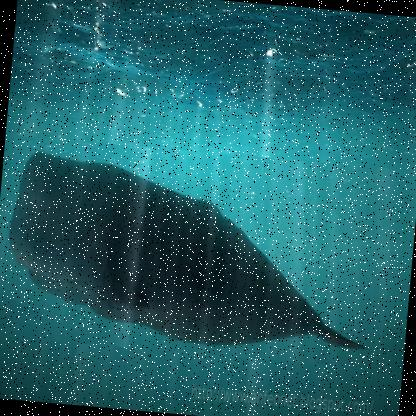sperm_whale: (0, 136, 399, 372)
